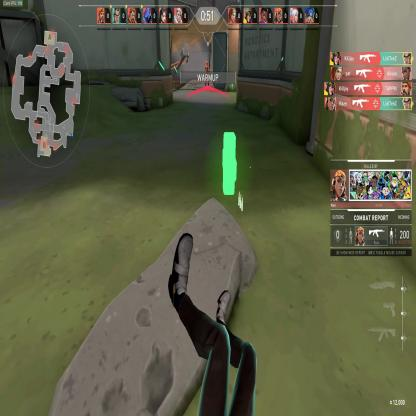enemy: (204, 59, 210, 71)
